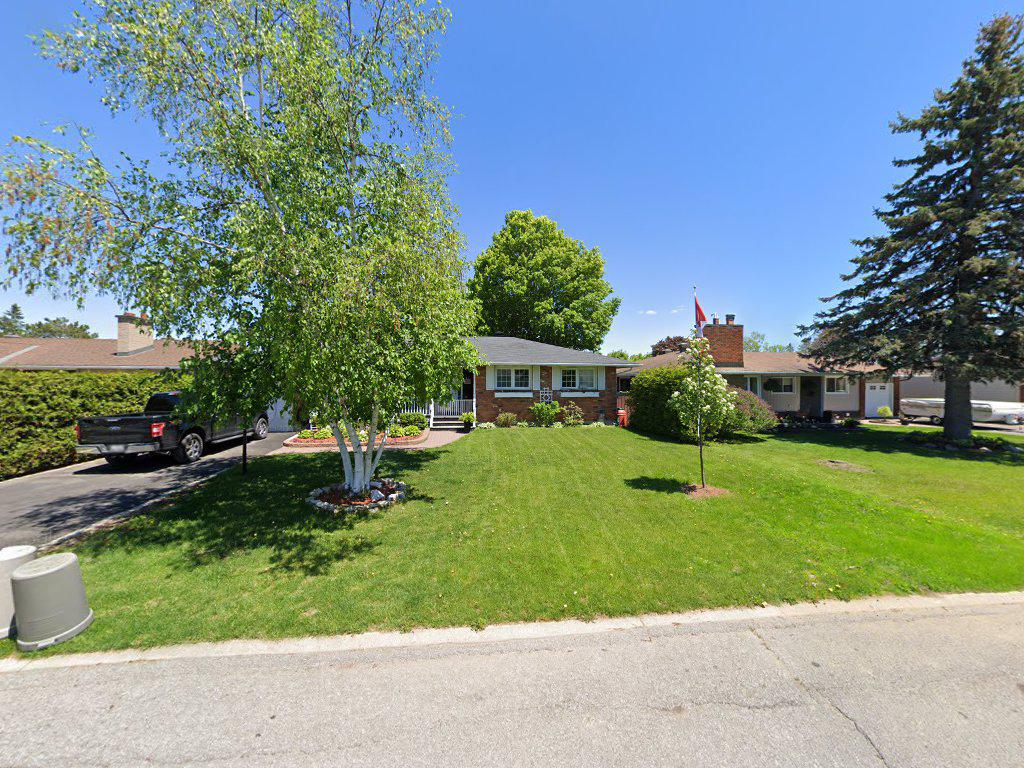trunk: (323, 404, 386, 499), (942, 341, 977, 457)
